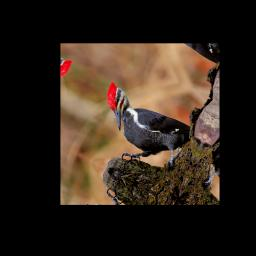Woodpecker: (85, 81, 196, 186)
